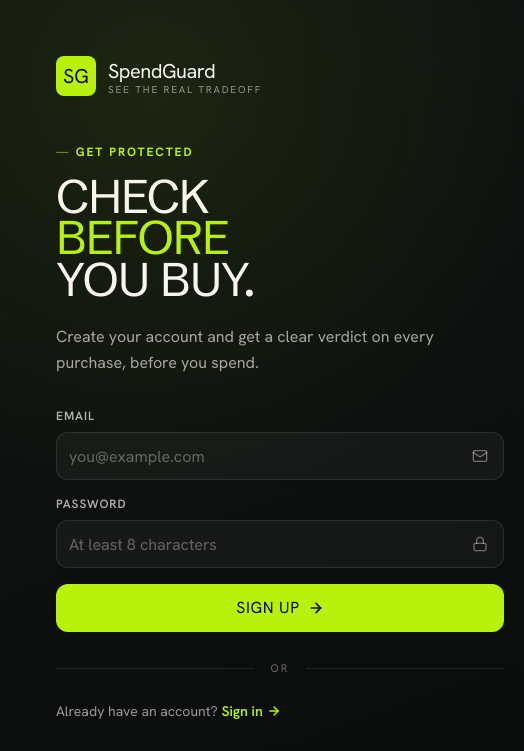
Test case: AuthForm › shows confirmation instructions after signup
Type "person@example.com" into the field labelled "Email" at (280, 456), box [56,432,504,480]
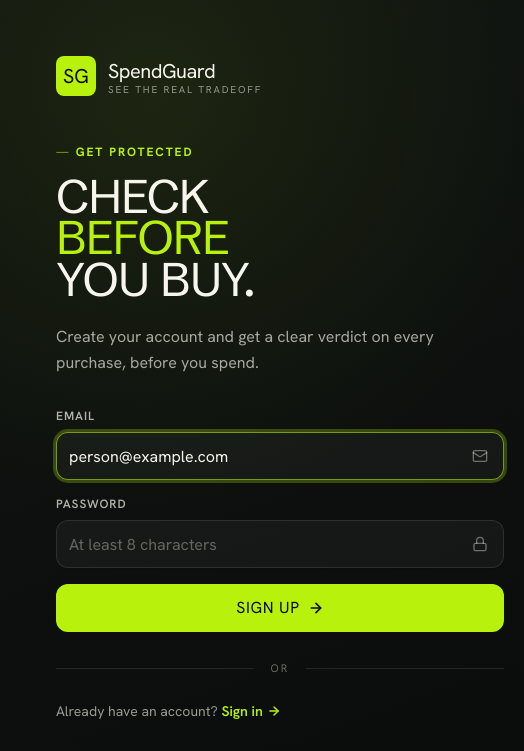
Type "password123" into the password field labelled "Password" at (280, 544), box [56,520,504,568]
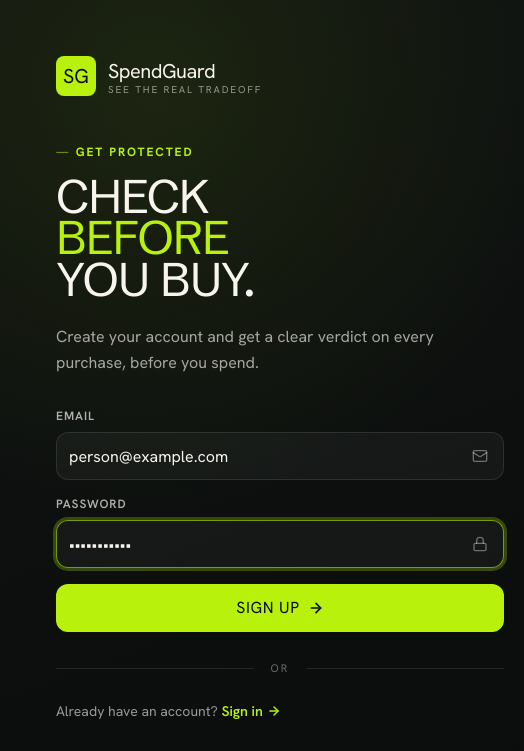
Click the button "Sign up" at (280, 608), box [56,584,504,632]
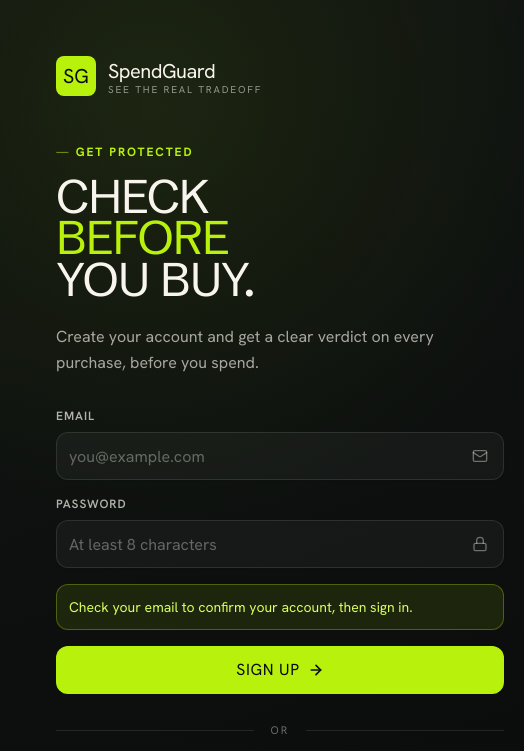
Check: the message shows "Check your email", box [69,598,412,616]
